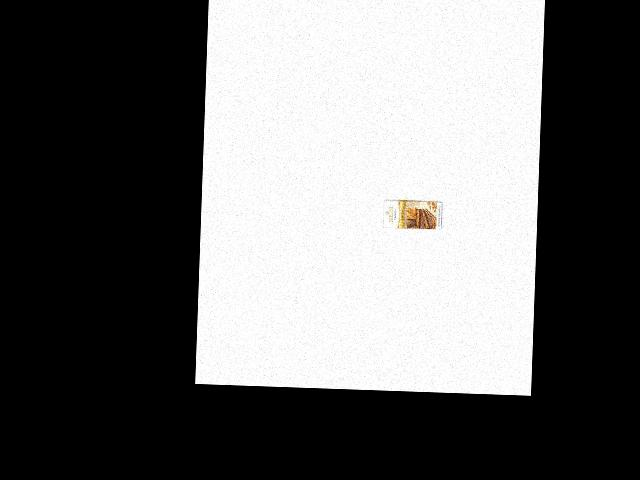chocolate: (379, 188, 445, 235)
